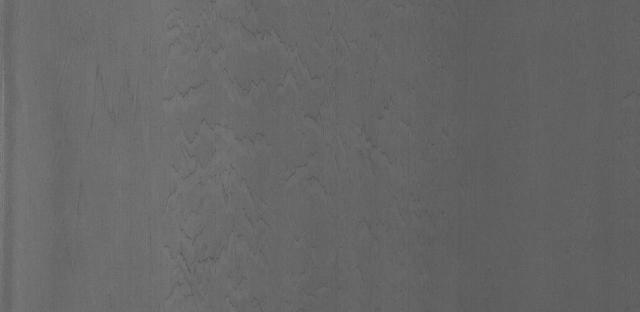silk_spot: (139, 19, 372, 288)
